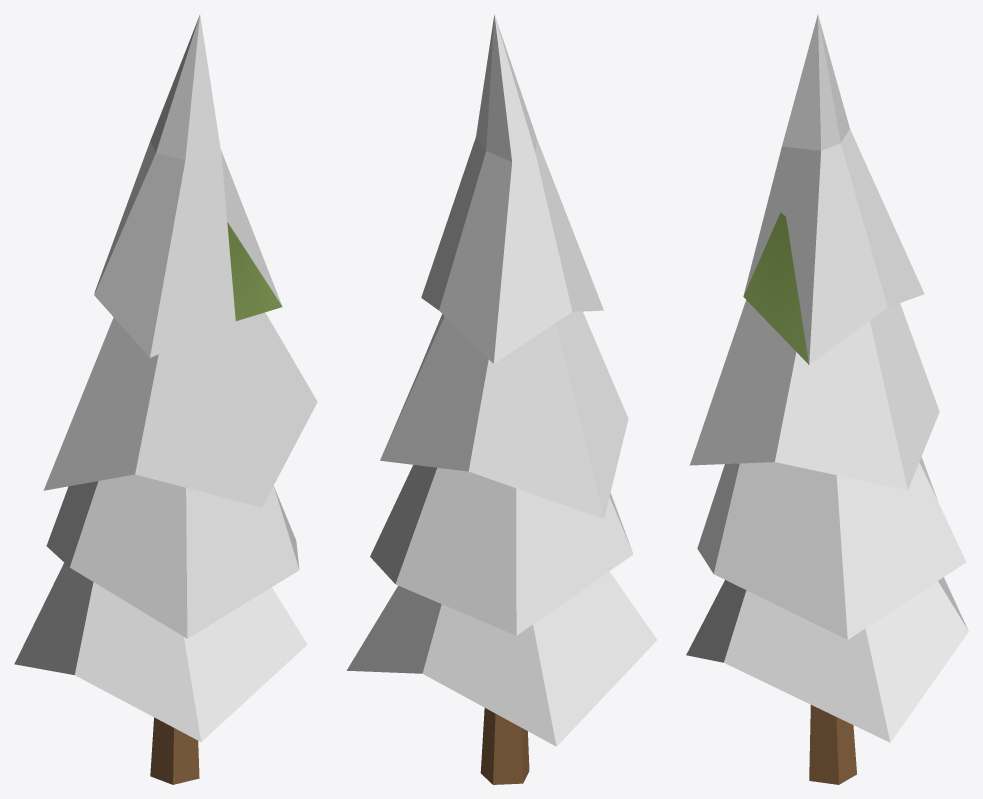
The model's file is Pine_Tree_m_Snow_09_LOD.fbx.
The picture shows the model from 3 angles, left to right: view 1: azimuth 30°, elevation 25°; view 2: azimuth 150°, elevation 25°; view 3: azimuth 270°, elevation 25°; orthographic projection. The views are drawn at different scales.
Parts seen in each view (by area): view 1: Pine_Tree_m_Snow_09_LOD0; view 2: Pine_Tree_m_Snow_09_LOD0; view 3: Pine_Tree_m_Snow_09_LOD0.
Part boxes in pixels (x1,y1,x2,y2): Pine_Tree_m_Snow_09_LOD0: (14, 14, 317, 784); Pine_Tree_m_Snow_09_LOD0: (347, 14, 656, 784); Pine_Tree_m_Snow_09_LOD0: (686, 14, 968, 784).
Size of what is drawn, in the model's own units: 212 by 594 by 198.
